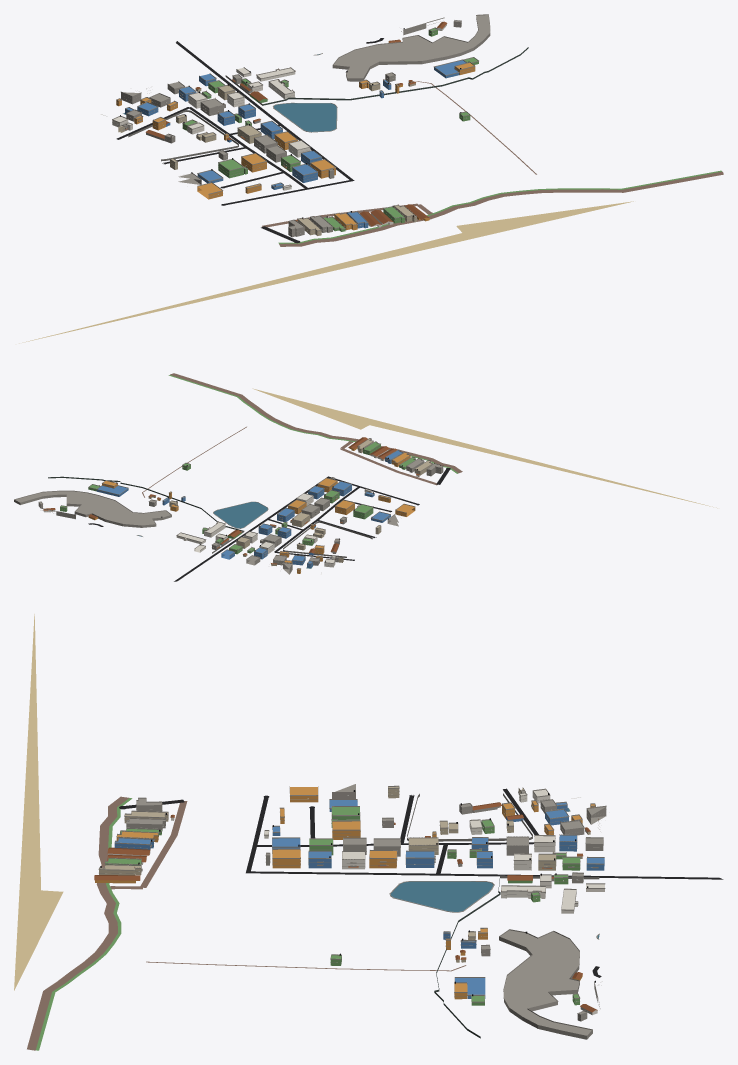
File: zone_t2_-1.glb
3 renders of one model, top to bottom at view 1: azimuth 30°, elevation 25°; view 2: azimuth 150°, elevation 25°; view 3: azimuth 270°, elevation 25°, orthographic. The views are drawn at different scales.
Parts seen in each view (by area): view 1: bld_beton_t2_-1-col, parapet_t2_-1, zone_plage_t2_-1, bld_peinture_bleu_t2_-1-col, bld_peinture_ocre_t2_-1-col, bld_peinture_blanc_t2_-1-col, route_service_bitume_t2_-1, promenade_t2_-1, bld_peinture_vert_t2_-1-col, zone_eau_t2_-1, bld_peinture_ecaillee_t2_-1-col, toit_tole_t2_-1 (+3 smaller); view 2: bld_beton_t2_-1-col, parapet_t2_-1, zone_plage_t2_-1, bld_peinture_bleu_t2_-1-col, bld_peinture_ocre_t2_-1-col, route_service_bitume_t2_-1, bld_peinture_vert_t2_-1-col, bld_peinture_blanc_t2_-1-col, promenade_t2_-1, bld_peinture_ecaillee_t2_-1-col, zone_eau_t2_-1, toit_tole_t2_-1 (+3 smaller); view 3: bld_beton_t2_-1-col, parapet_t2_-1, zone_plage_t2_-1, bld_peinture_bleu_t2_-1-col, bld_peinture_ocre_t2_-1-col, bld_peinture_blanc_t2_-1-col, route_service_bitume_t2_-1, promenade_t2_-1, zone_eau_t2_-1, bld_peinture_vert_t2_-1-col, bld_peinture_ecaillee_t2_-1-col, toit_tole_t2_-1 (+3 smaller).
Boxes of the visible parts, x1=… form: bld_beton_t2_-1-col: x1=121, y1=15, x2=490, y2=237; parapet_t2_-1: x1=112, y1=14, x2=490, y2=231; zone_plage_t2_-1: x1=19, y1=201, x2=633, y2=343; bld_peinture_bleu_t2_-1-col: x1=125, y1=60, x2=465, y2=228; bld_peinture_ocre_t2_-1-col: x1=116, y1=41, x2=475, y2=230; bld_peinture_blanc_t2_-1-col: x1=112, y1=24, x2=446, y2=227; route_service_bitume_t2_-1: x1=116, y1=38, x2=383, y2=205; promenade_t2_-1: x1=279, y1=171, x2=723, y2=246; bld_peinture_vert_t2_-1-col: x1=182, y1=28, x2=478, y2=231; zone_eau_t2_-1: x1=273, y1=53, x2=336, y2=131; bld_peinture_ecaillee_t2_-1-col: x1=118, y1=81, x2=416, y2=235; toit_tole_t2_-1: x1=145, y1=21, x2=447, y2=226; bld_beton_t2_-1-col: x1=14, y1=459, x2=443, y2=574; parapet_t2_-1: x1=14, y1=438, x2=443, y2=570; zone_plage_t2_-1: x1=252, y1=388, x2=717, y2=508; bld_peinture_bleu_t2_-1-col: x1=96, y1=450, x2=402, y2=567; bld_peinture_ocre_t2_-1-col: x1=88, y1=447, x2=415, y2=573; route_service_bitume_t2_-1: x1=88, y1=476, x2=419, y2=581; bld_peinture_vert_t2_-1-col: x1=60, y1=442, x2=415, y2=554; bld_peinture_blanc_t2_-1-col: x1=43, y1=450, x2=419, y2=567; promenade_t2_-1: x1=170, y1=373, x2=462, y2=473; bld_peinture_ecaillee_t2_-1-col: x1=148, y1=439, x2=431, y2=565; zone_eau_t2_-1: x1=138, y1=502, x2=267, y2=536; toit_tole_t2_-1: x1=43, y1=437, x2=419, y2=564; bld_beton_t2_-1-col: x1=126, y1=784, x2=606, y2=1039; parapet_t2_-1: x1=98, y1=784, x2=606, y2=1036; zone_plage_t2_-1: x1=14, y1=614, x2=63, y2=990; bld_peinture_bleu_t2_-1-col: x1=114, y1=800, x2=604, y2=998; bld_peinture_ocre_t2_-1-col: x1=95, y1=787, x2=595, y2=999; bld_peinture_blanc_t2_-1-col: x1=108, y1=789, x2=604, y2=1015; route_service_bitume_t2_-1: x1=246, y1=788, x2=723, y2=977; promenade_t2_-1: x1=27, y1=796, x2=128, y2=1050; zone_eau_t2_-1: x1=391, y1=881, x2=599, y2=938; bld_peinture_vert_t2_-1-col: x1=105, y1=807, x2=580, y2=1005; bld_peinture_ecaillee_t2_-1-col: x1=99, y1=786, x2=590, y2=962; toit_tole_t2_-1: x1=94, y1=802, x2=597, y2=1012.
Size of the model in its own units: 906 by 11 by 617.
